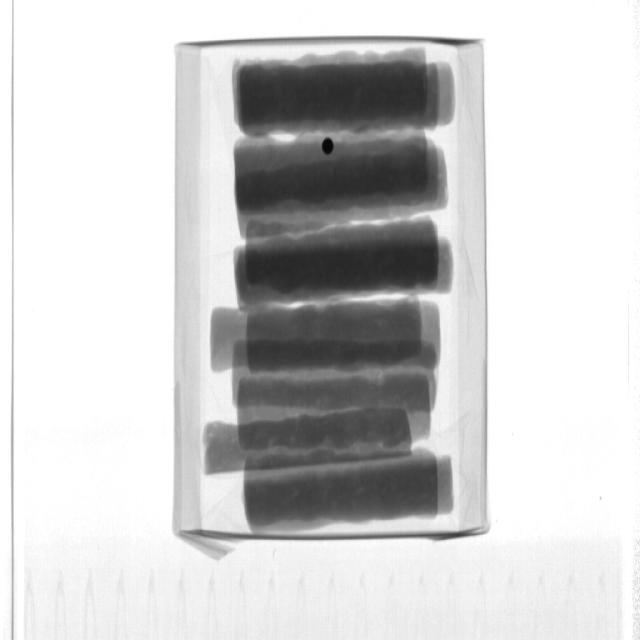ym: (322, 138, 335, 155)
